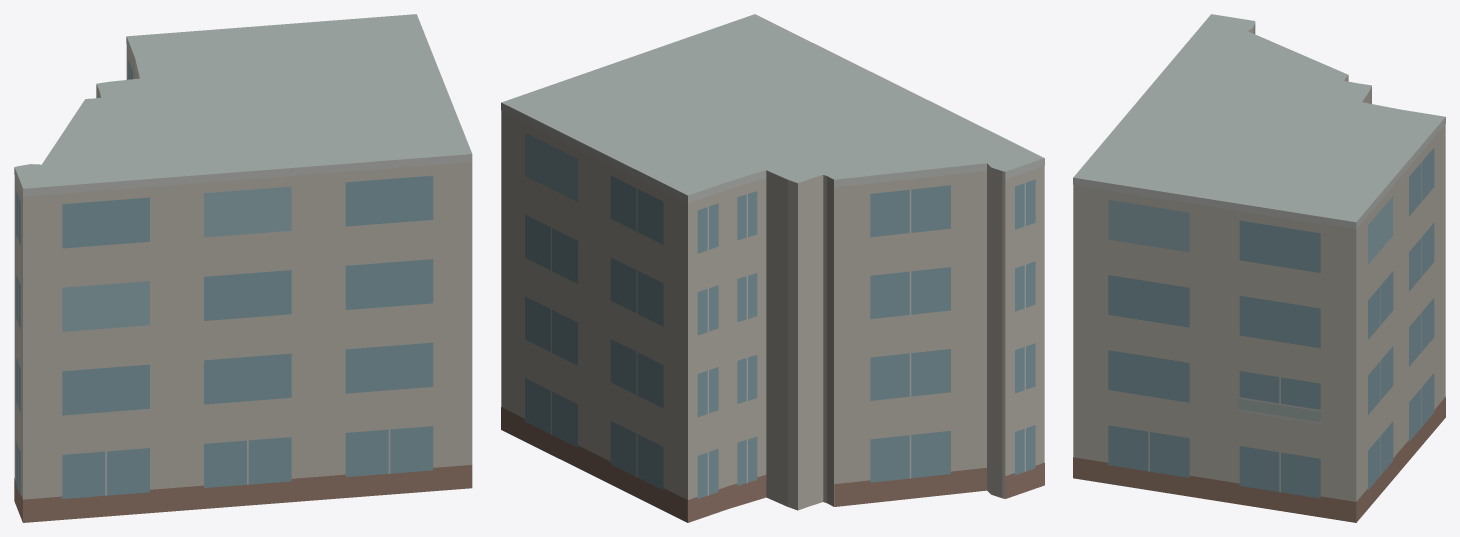
Rendered from survey-upis-32888393.glb.
The picture shows the model from 3 angles, left to right: view 1: azimuth 30°, elevation 25°; view 2: azimuth 150°, elevation 25°; view 3: azimuth 270°, elevation 25°; orthographic projection. The views are drawn at different scales.
Parts seen in each view (by area): view 1: survey-upis-32888393.tmp; view 2: survey-upis-32888393.tmp; view 3: survey-upis-32888393.tmp.
Part boxes in pixels (x1,y1,x2,y2): survey-upis-32888393.tmp: (14, 14, 472, 522); survey-upis-32888393.tmp: (501, 14, 1044, 522); survey-upis-32888393.tmp: (1073, 14, 1445, 522).
Size of the model in its own units: 15.46 by 10.4 by 11.69.
